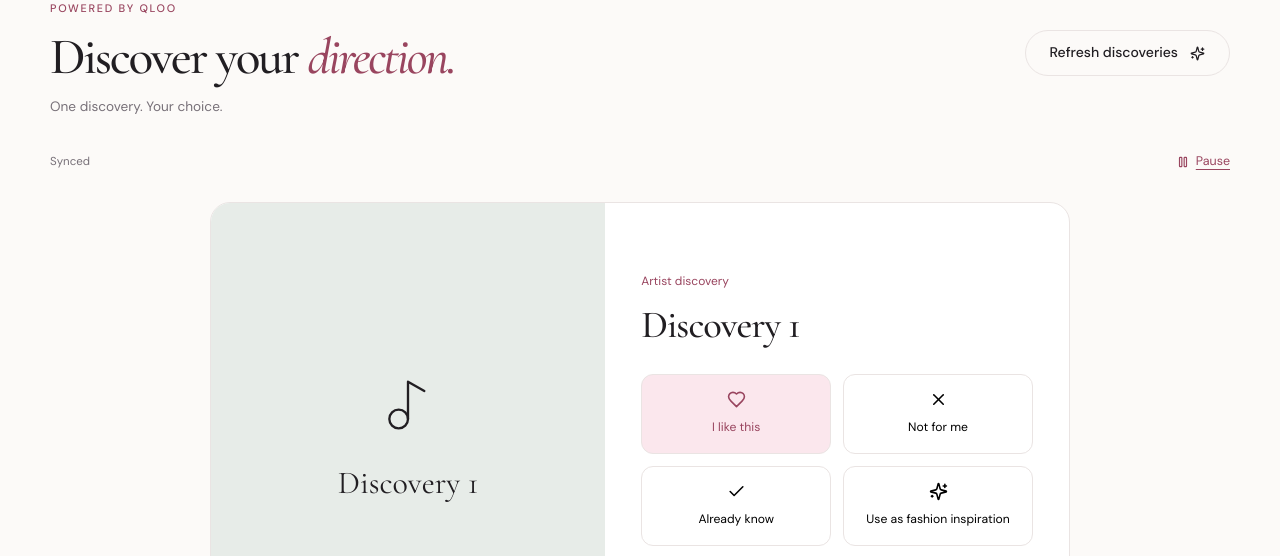
Test: failed synchronization retains choices and does not disable the next card
This screenshot has width=1280, height=556.
Click the button "I like this" at (736, 414), box [641, 374, 831, 454]
(page scrolled)
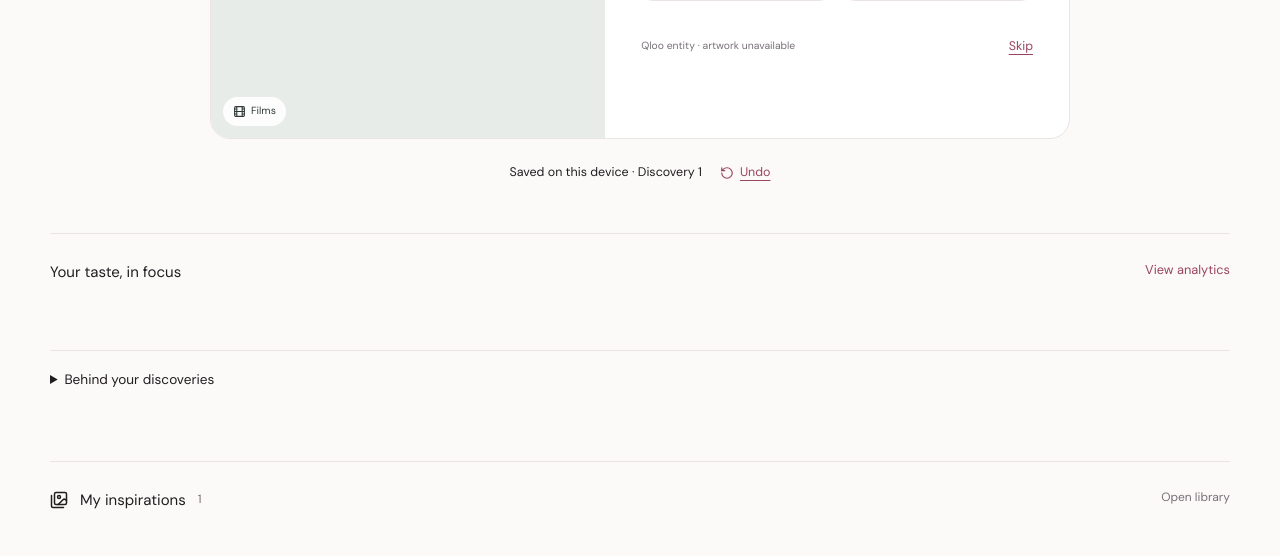
Click the text "View analytics" at (1188, 272), box [1145, 260, 1230, 284]
(page scrolled)
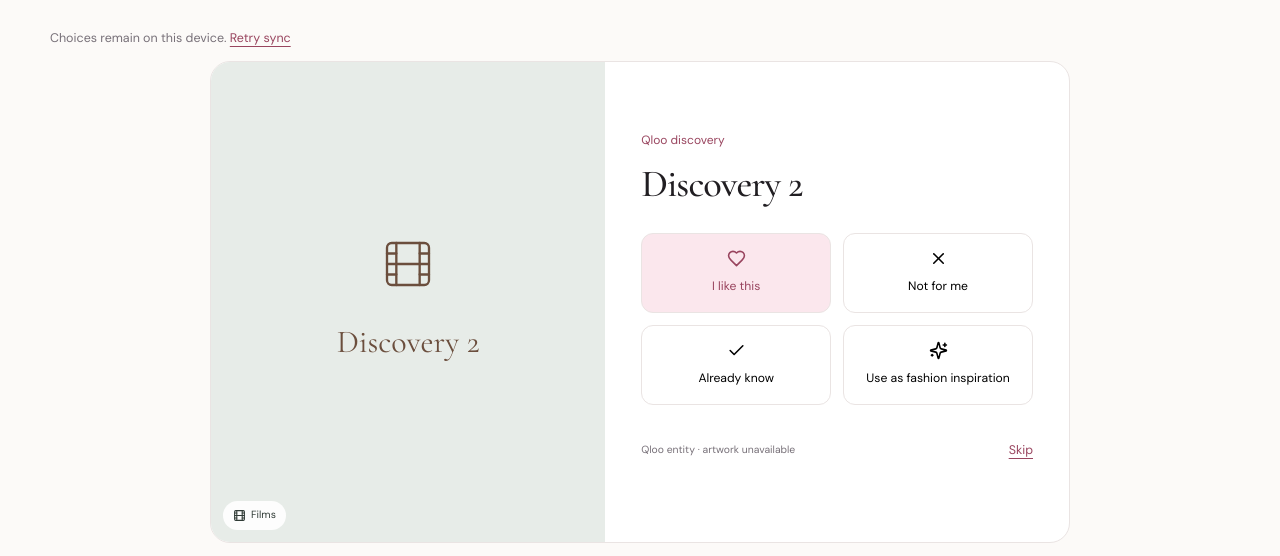
Click the button "Not for me" at (938, 273), box [843, 233, 1033, 313]
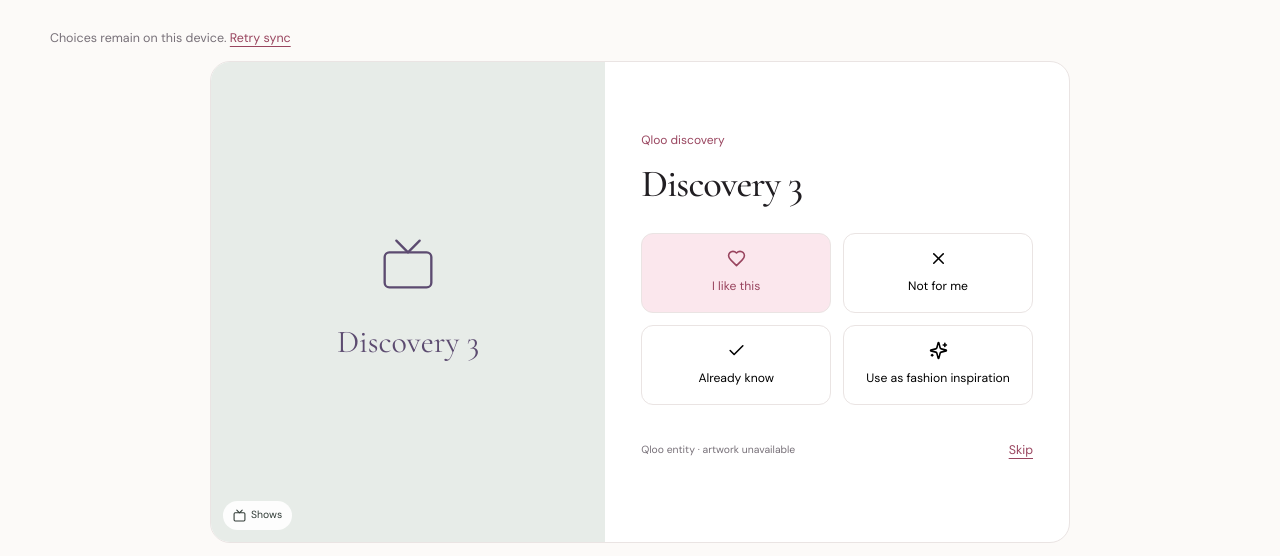
Check: the element "Discovery 3" is shown, box [210, 61, 1070, 543]
